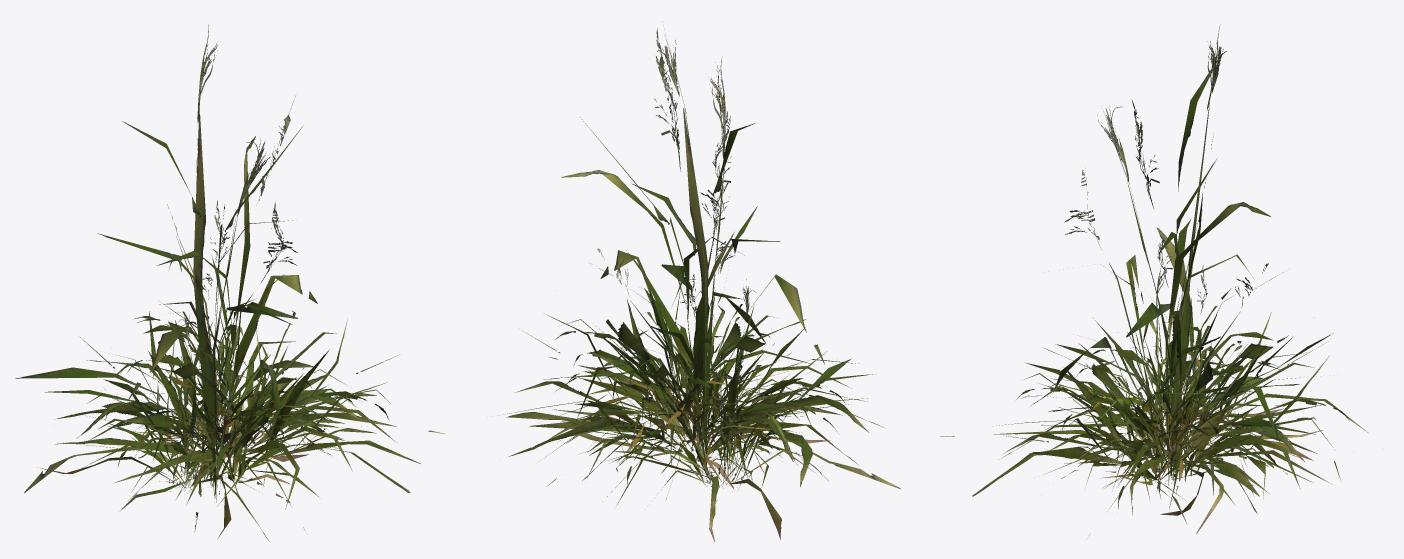
The model's file is grass.gltf.
3 views of the same model, side by side, from view 1: azimuth 30°, elevation 25°; view 2: azimuth 150°, elevation 25°; view 3: azimuth 270°, elevation 25° (orthographic). The views are drawn at different scales.
Parts seen in each view (by area): view 1: grass_large_b, grass_tall_a, grass_tall_b, grass_mid_b, grass_small_b, grass_tiny_a; view 2: grass_large_b, grass_mid_b, grass_tall_a, grass_tall_b, grass_small_b; view 3: grass_large_b, grass_mid_b, grass_tall_a, grass_tall_b, grass_small_b.
Boxes of the visible parts, <box> form: grass_large_b: <box>15,255,444,534</box>; grass_tall_a: <box>97,24,303,487</box>; grass_tall_b: <box>128,96,317,476</box>; grass_mid_b: <box>40,249,320,541</box>; grass_small_b: <box>120,342,338,532</box>; grass_tiny_a: <box>196,311,279,502</box>; grass_large_b: <box>498,232,900,504</box>; grass_mid_b: <box>553,214,851,541</box>; grass_tall_a: <box>576,35,780,473</box>; grass_tall_b: <box>561,28,824,466</box>; grass_small_b: <box>589,305,828,501</box>; grass_large_b: <box>940,227,1368,524</box>; grass_mid_b: <box>1001,228,1322,533</box>; grass_tall_a: <box>1097,24,1286,485</box>; grass_tall_b: <box>1053,99,1270,462</box>; grass_small_b: <box>1031,332,1312,515</box>.
Size of the model in its own units: 0.2841 by 0.3225 by 0.2757.
1 material, 1 textured.
